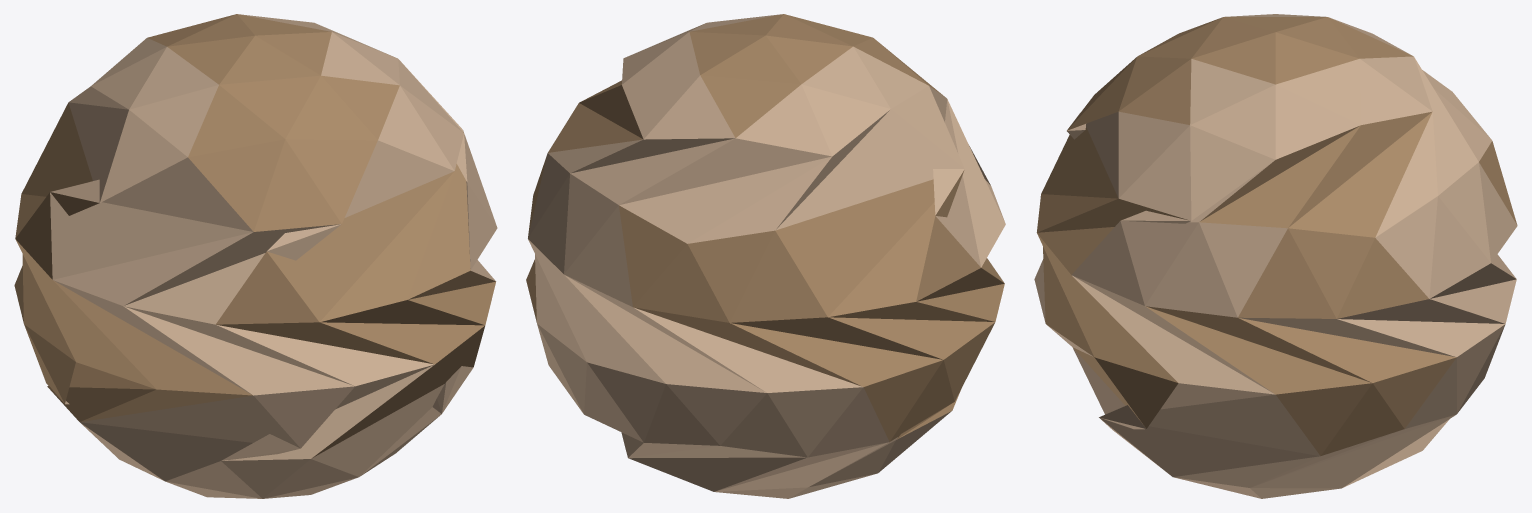
3 views of the same model, side by side, from view 1: azimuth 30°, elevation 25°; view 2: azimuth 150°, elevation 25°; view 3: azimuth 270°, elevation 25° (orthographic).
Visible parts, largest first — view 1: Venus_1241; view 2: Venus_1241; view 3: Venus_1241.
Boxes of the visible parts, x1=… form: Venus_1241: x1=14, y1=14, x2=497, y2=498; Venus_1241: x1=526, y1=14, x2=1005, y2=498; Venus_1241: x1=1034, y1=14, x2=1517, y2=498.
Bounding box in the file's own units: 59.57 × 60.43 × 59.5.
